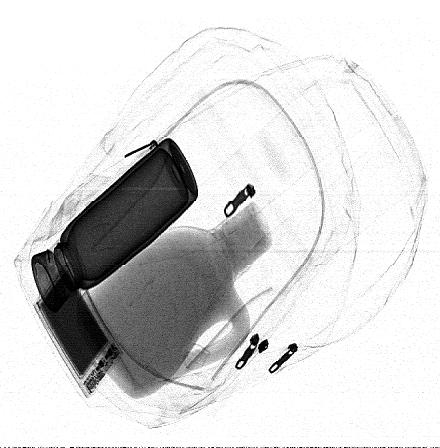Powerbank: (32, 263, 123, 401)
